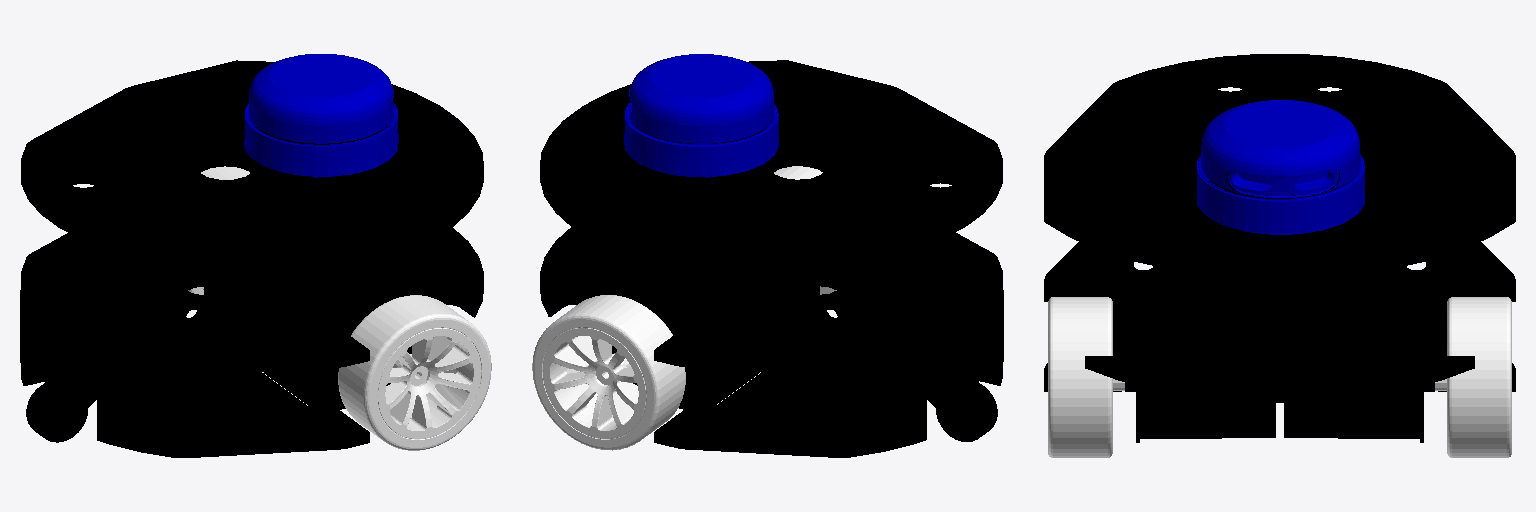
URDF robot description (simrobot):
<?xml version="1.0"?>
<robot name="simrobot">
    <material name="black">
        <color rgba="0 0 0 1"/>
    </material>
    <material name="white">
        <color rgba="1 1 1 1"/>
    </material>
    <material name="blue">
        <color rgba="0.0 0.0 0.8 1.0"/>
    </material>

    <link name="base_footprint"/>
    
    <joint name="bash_link_joint" type="fixed">
        <axis rpy="0 0 0" xyz="0 0 0"/>
        <origin rpy="0 0 0" xyz="0 0 0"/>
        <parent link="base_footprint"/>
        <child link="base_link"/>
    </joint>

    <link name="base_link">
        <visual>
            <origin xyz="0 0 0" rpy="0 0 0"/>
            <geometry>
                <mesh filename="package://my_simrobot/meshes/base_link.STL"/>
            </geometry>
            <material name="black"/>
        </visual>
        <inertial>
            <origin xyz="-0.036932 -3.6183E-09 5.4279E-05" rpy="0 0 0"/>
            <mass value="0.62461"/>
            <inertia ixx="0.002014" ixy="3.2092E-10" ixz="-5.0446E-05" iyy="0.0023871" iyz="5.0493E-08" izz="0.0027336"/>
        </inertial>
        <collision>
            <origin xyz="0 0 0" rpy="0 0 0"/>
            <geometry>
                <mesh filename="package://my_simrobot/meshes/base_link.STL"/>
            </geometry>
        </collision>
    </link>


    <link name="right_wheel">
        <visual>
            <origin xyz="0 0 0" rpy="0 0 0"/>
            <geometry>
                <mesh filename="package://my_simrobot/meshes/right_wheel.STL"/>
            </geometry>
            <material name="white"/>
        </visual>
        <inertial>
            <origin xyz="0 -0.0033767 0" rpy="0 0 0"/>
            <mass value="0.052928"/>
            <inertia ixx="2.1269E-05" ixy="-7.7807E-22" ixz="2.6095E-21" iyy="3.6821E-05" iyz="-1.6034E-21" izz="2.1269E-05"/>
        </inertial>
        <collision>
            <origin xyz="0 0 0" rpy="0 0 0"/>
            <geometry>
                <mesh filename="package://my_simrobot/meshes/right_wheel.STL"/>
            </geometry>
        </collision>
    </link>
    <joint name="right_wheel_joint" type="continuous">
        <axis xyz="0 1 0"/>
        <origin rpy="-7.0774E-16 -6.9389E-18 9.8142E-17" xyz="0 -0.0775 -0.024"/>
        <limit effort="0.5" velocity="100"/>
        <dynamics damping="0.0" friction="0.5"/>
        <parent link="base_link"/>
        <child link="right_wheel"/>
    </joint>

    <link name="left_wheel">
        <visual>
            <origin xyz="0 0 0" rpy="0 0 0"/>
            <geometry>
                <mesh filename="package://my_simrobot/meshes/left_wheel.STL"/>
            </geometry>
            <material name="white"/>
        </visual>
        <inertial>
            <origin xyz="0 0.0033767 0" rpy="0 0 0"/>
            <mass value="0.052928"/>
            <inertia ixx="2.1269E-05" ixy="-8.5384E-22" ixz="-1.5763E-21" iyy="3.6821E-05" iyz="1.4005E-21" izz="2.1269E-05"/>
        </inertial>
        <collision>
            <origin xyz="0 0 0" rpy="0 0 0"/>
            <geometry>
                <mesh filename="package://my_simrobot/meshes/left_wheel.STL"/>
            </geometry>
        </collision>
    </link>
    <joint name="left_wheel_joint" type="continuous">
        <axis xyz="0 1 0"/>
        <origin rpy="-7.0774E-16 -6.9389E-18 9.8142E-17" xyz="0 0.0775 -0.024"/>
        <limit effort="0.5" velocity="100"/>
        <dynamics damping="0.0" friction="0.5"/>
        <parent link="base_link"/>
        <child link="left_wheel"/>
    </joint>    

    <link name="rplidar">
        <inertial>
            <mass value="1e-5"/>
            <origin rpy="0 0 0" xyz="0 0 0"/>
            <inertia ixx="1e-6" ixy="0" ixz="0" iyy="1e-6" iyz="0" izz="1e-6"/>
        </inertial>
        <visual>
            <origin rpy="0 0 0" xyz="0 0 0"/>
            <geometry>
                <mesh filename="package://my_simrobot/meshes/rplidar.dae"/>
            </geometry>
            <material name="blue"/>
        </visual>
        <collision>
            <origin rpy="0 0 0" xyz="0 0 0"/>
            <geometry>
                <mesh filename="package://my_simrobot/meshes/rplidar.dae"/> 
            </geometry>
        </collision>
    </link>
    <joint name="rplidar_joint" type="fixed">
        <axis xyz="0 1 0"/>
        <origin xyz="0 0 0.07"/>
        <parent link="base_link"/>
        <child link="rplidar"/>
    </joint>

</robot>

--- Facts derived from the render (not from the file) ---
Views: 3 orthographic renders of the robot side by side, from view 1: azimuth 30°, elevation 25°; view 2: azimuth 150°, elevation 25°; view 3: azimuth 270°, elevation 25°.
Model simrobot with 5 links and 4 joints (2 continuous, 2 fixed), rooted at base_footprint, posed all joints at 0.
Links seen in each view (by area): view 1: base_link, right_wheel, rplidar, left_wheel; view 2: base_link, left_wheel, rplidar, right_wheel; view 3: base_link, rplidar, right_wheel, left_wheel.
Link boxes in pixels (x1=…): base_link: x1=20, y1=60, x2=483, y2=457; right_wheel: x1=338, y1=295, x2=491, y2=450; rplidar: x1=244, y1=54, x2=398, y2=177; left_wheel: x1=188, y1=166, x2=249, y2=294; base_link: x1=540, y1=60, x2=1003, y2=457; left_wheel: x1=532, y1=295, x2=685, y2=450; rplidar: x1=624, y1=54, x2=778, y2=177; right_wheel: x1=774, y1=166, x2=836, y2=294; base_link: x1=1044, y1=54, x2=1515, y2=442; rplidar: x1=1197, y1=100, x2=1364, y2=234; right_wheel: x1=1048, y1=297, x2=1124, y2=457; left_wheel: x1=1435, y1=297, x2=1511, y2=457.
Bounding box of the posed robot: 0.214 × 0.19 × 0.1448 m (x, y, z).
4 mesh visuals loaded from 4 distinct referenced files (3 binary STL, 1 Collada DAE).